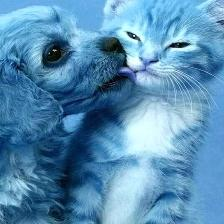kedo: (102, 0, 224, 224)
